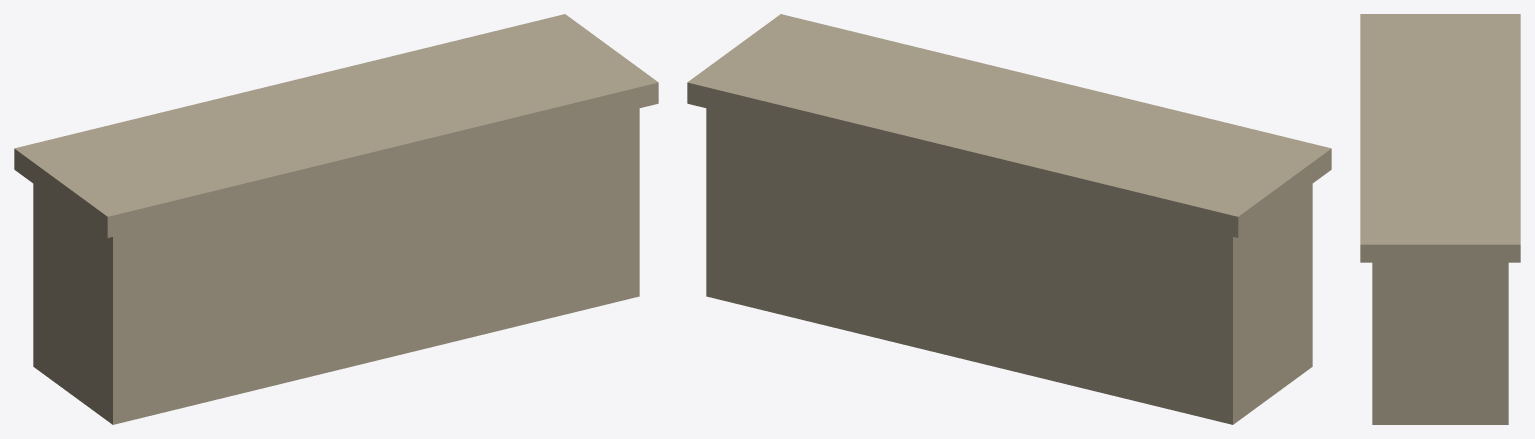
File: counter_canteen.gltf
3 views of the same model, side by side, from view 1: azimuth 30°, elevation 25°; view 2: azimuth 150°, elevation 25°; view 3: azimuth 270°, elevation 25° (orthographic). The views are drawn at different scales.
Size of the model in its own units: 2.72 by 1.02 by 0.8.
